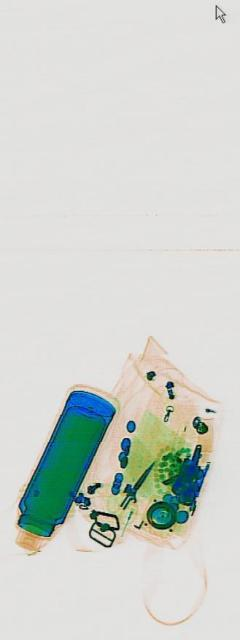Knife: (116, 445, 154, 519)
